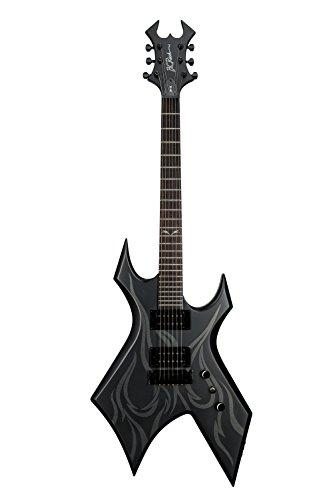ElectricGuitar: (90, 19, 248, 492)
